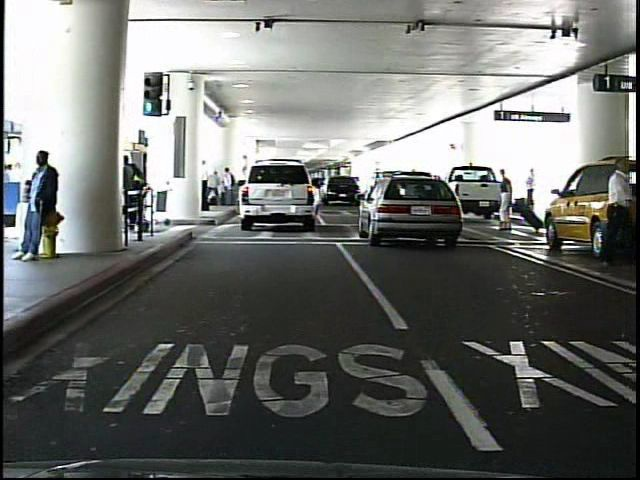person: (22, 149, 62, 263), (602, 156, 638, 264), (495, 167, 515, 233), (526, 167, 539, 215), (223, 167, 238, 208)
